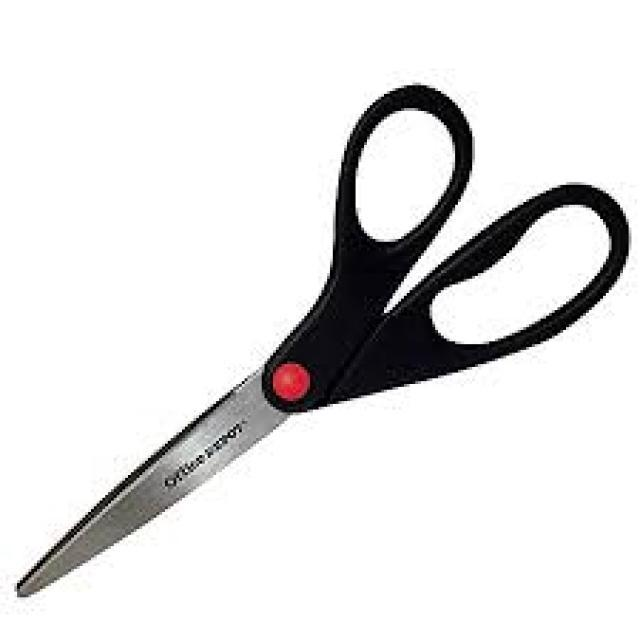scissor: (15, 83, 633, 599)
